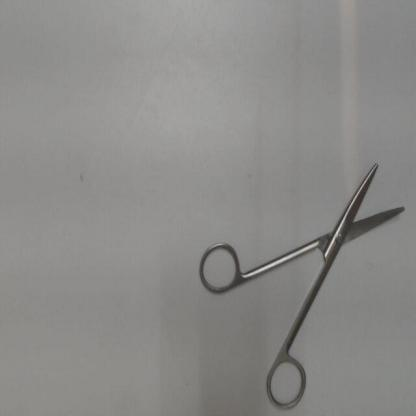Curved Mayo Scissors: (192, 149, 411, 414)
